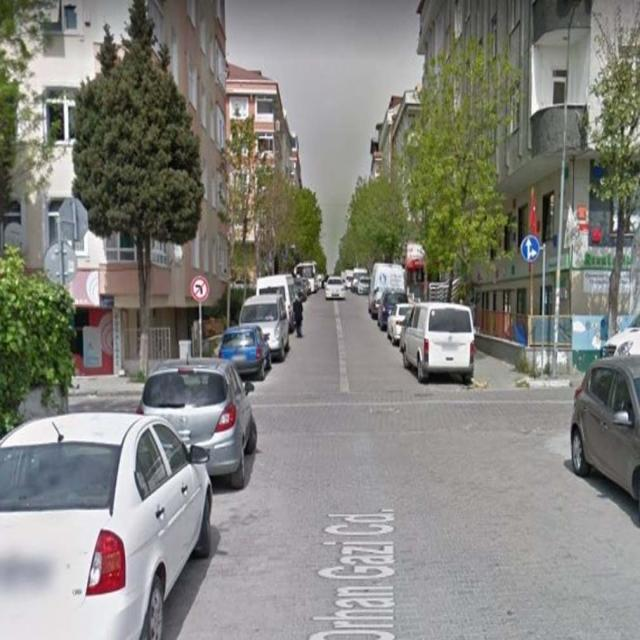ilerisag: (520, 234, 541, 263)
soladonulmez: (190, 275, 210, 301)
